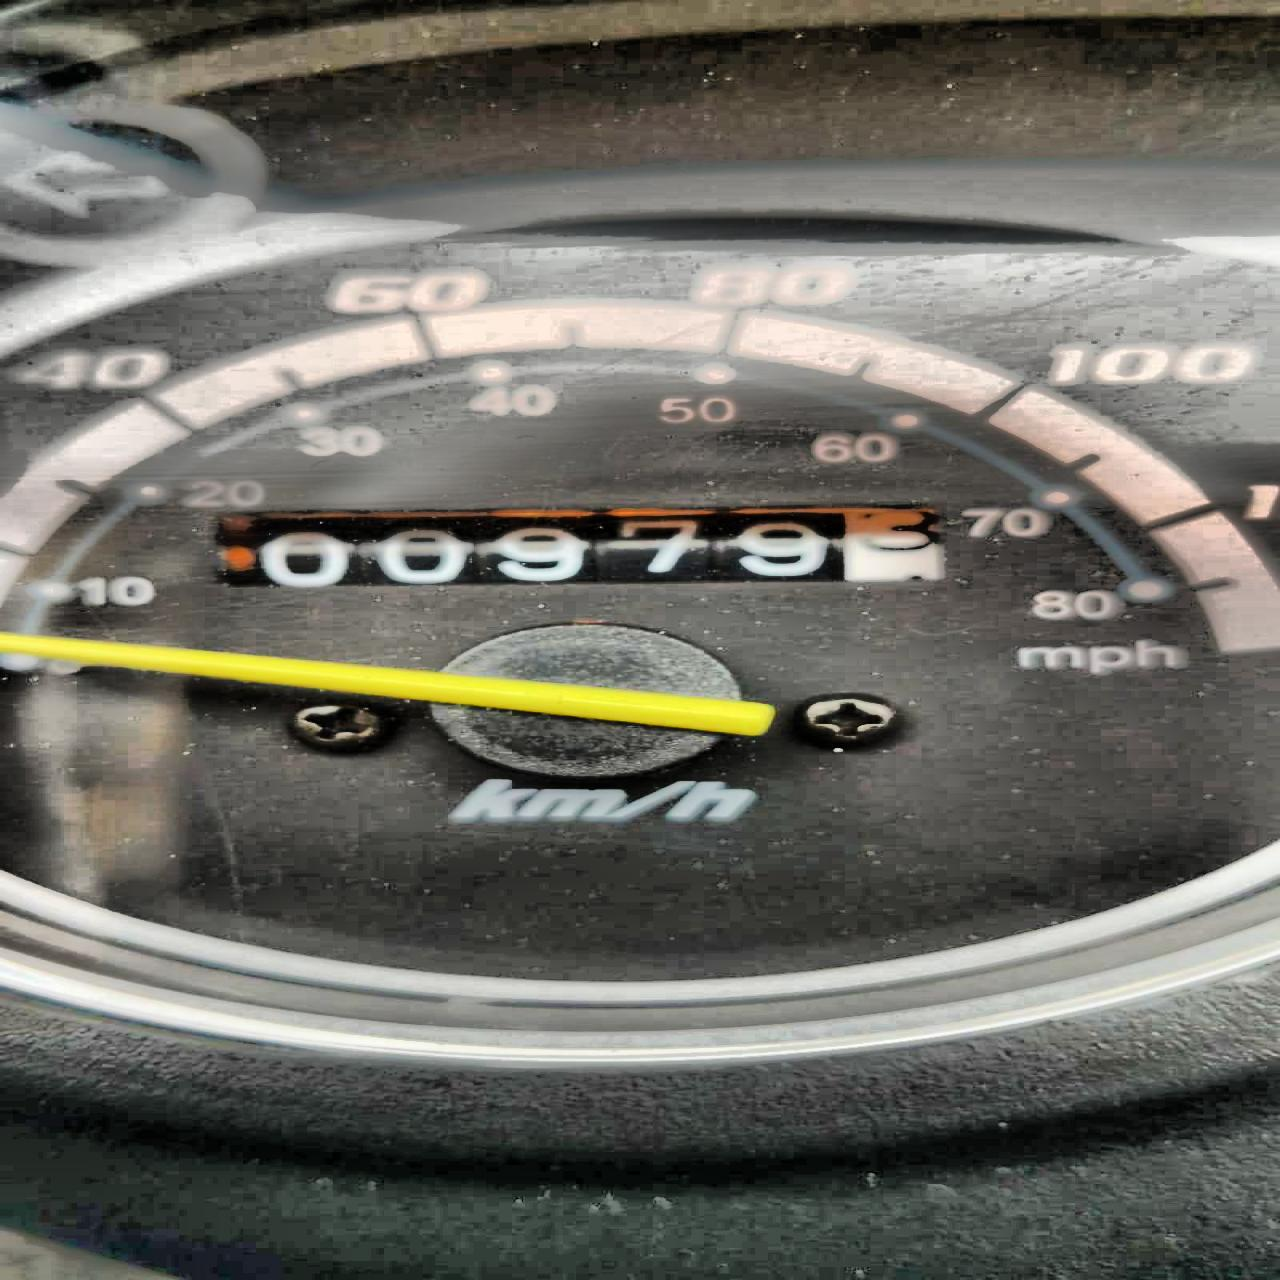0: (373, 526, 465, 588), (250, 529, 346, 588)
3: (852, 506, 946, 559)
7: (611, 518, 712, 571)
9: (735, 517, 833, 578), (485, 525, 584, 584)
odometer: (219, 501, 969, 607)
